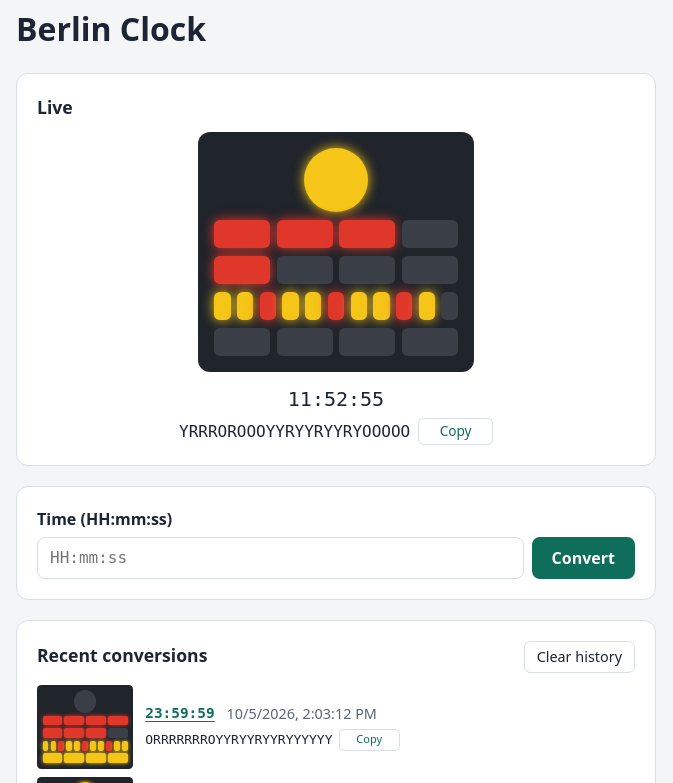
Clearing the history › keeps everything when cancelled
This screenshot has width=673, height=783.
Step 1. Click the button "Clear history" → (579, 657), box [524, 641, 635, 673]
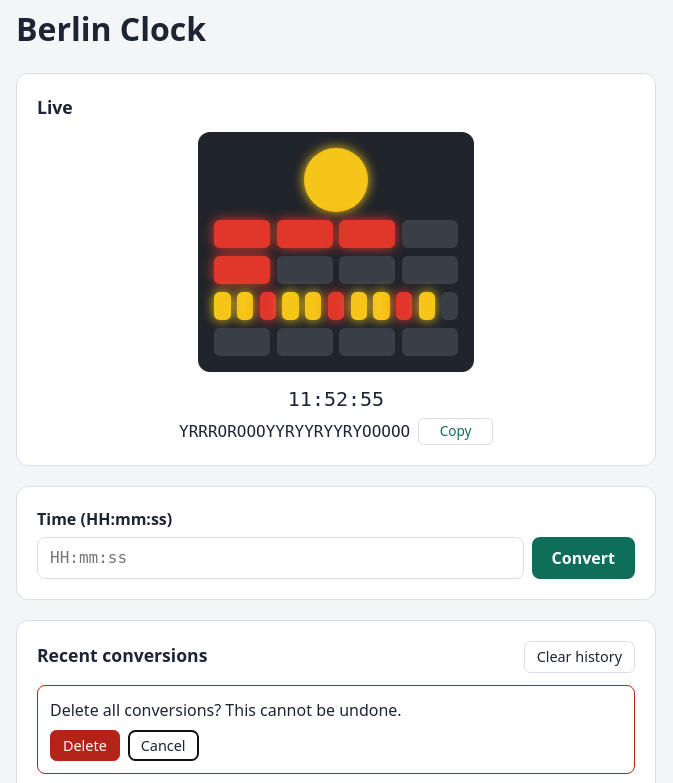
Step 2. Click the button "Cancel" → (163, 746), box [128, 730, 199, 761]
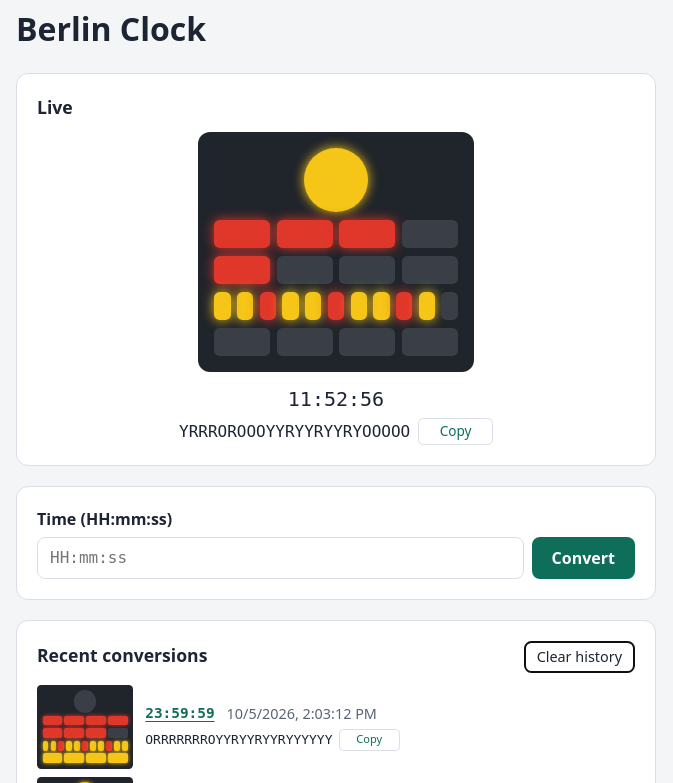
Expected: the text "Delete all conversions? This cannot be undone." is gone
